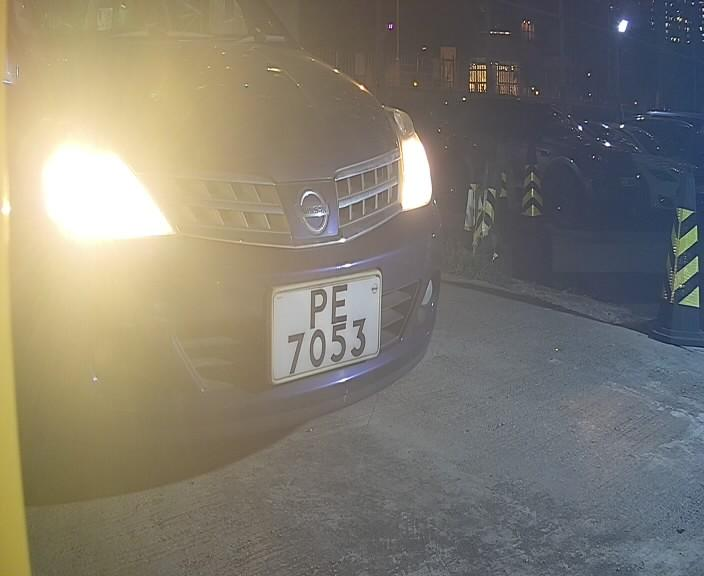Car: (16, 26, 522, 499)
License Plate: (258, 260, 387, 399)
